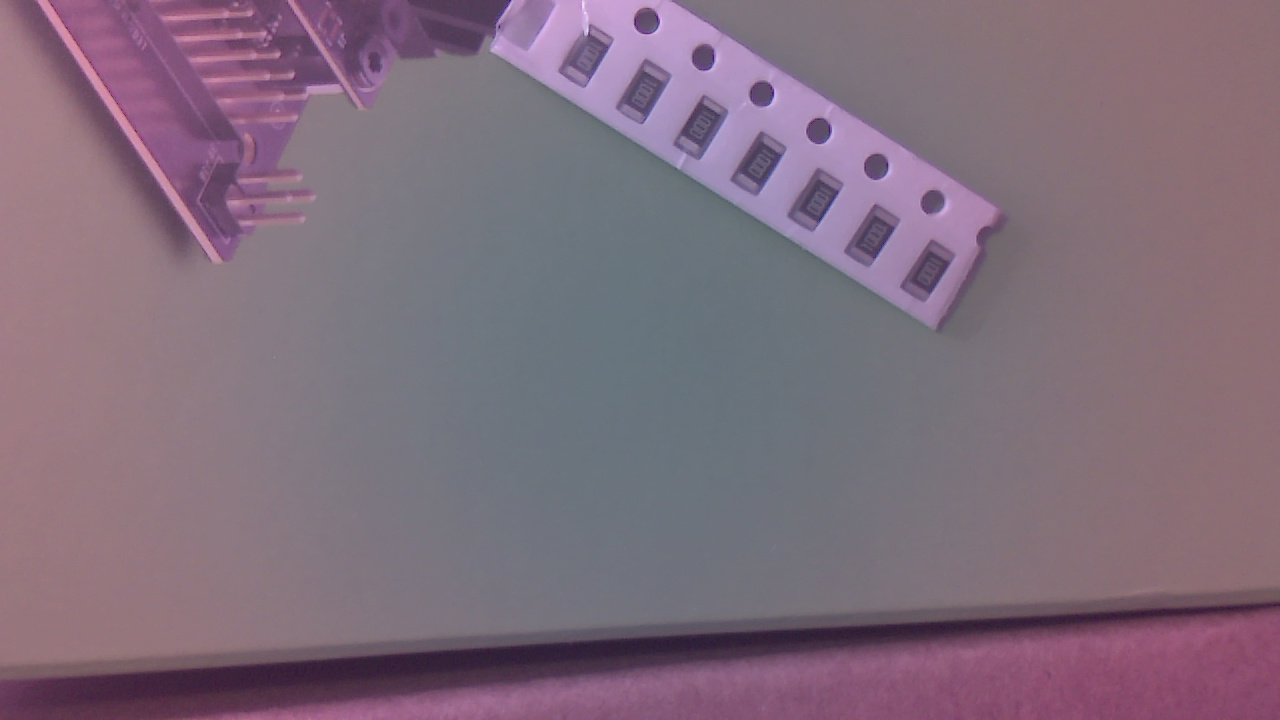Resistor: (680, 100, 744, 163), (621, 62, 682, 127), (734, 136, 794, 201), (561, 27, 621, 91), (905, 245, 965, 309), (849, 208, 906, 274), (792, 172, 850, 236)
